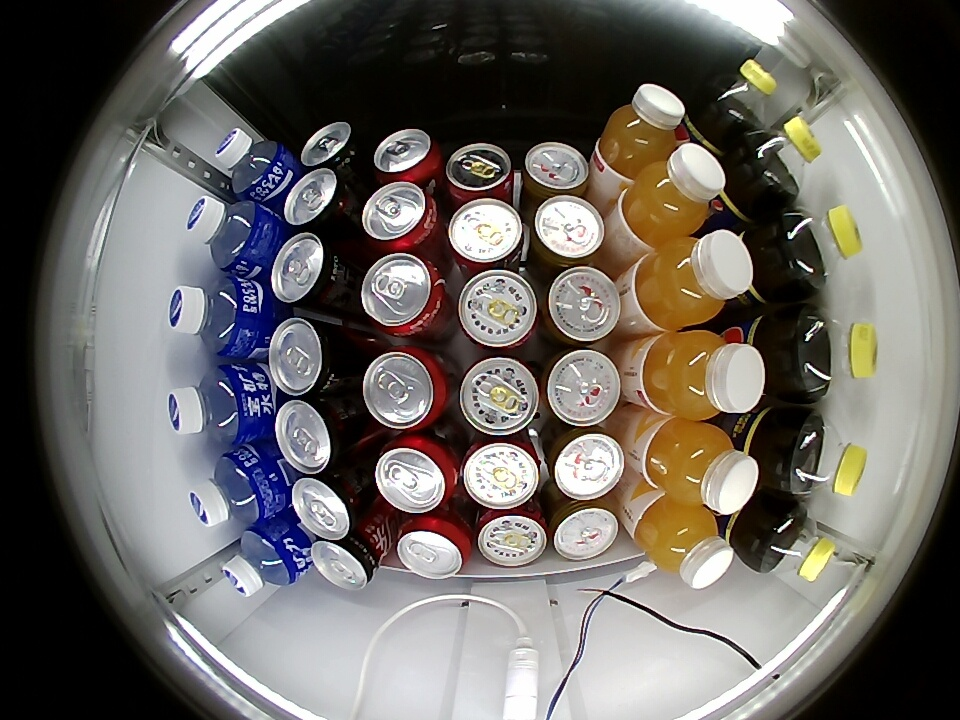baishikele: (795, 305, 878, 398), (781, 413, 868, 498), (780, 205, 863, 292), (752, 502, 838, 580), (743, 116, 823, 196), (703, 59, 778, 139)
baokuangli: (167, 364, 258, 444), (168, 276, 256, 358), (188, 449, 275, 527), (186, 195, 271, 274), (221, 523, 306, 597), (214, 128, 293, 202)
hongniu2: (540, 266, 621, 346), (541, 348, 622, 427), (546, 425, 625, 501), (530, 195, 605, 268), (548, 497, 620, 560), (521, 141, 591, 202)
kele: (362, 346, 449, 431), (360, 253, 447, 337), (374, 434, 458, 514), (361, 182, 437, 250), (395, 516, 472, 580), (373, 128, 441, 183)
lingdukele: (268, 318, 350, 396), (274, 397, 356, 473), (269, 232, 347, 308), (290, 469, 367, 540), (281, 167, 354, 232), (311, 531, 381, 590), (300, 122, 363, 176)
wangzainiunai: (456, 268, 540, 350), (458, 355, 541, 436), (460, 431, 540, 510), (447, 198, 525, 276), (474, 500, 548, 567), (444, 143, 516, 205)
weic: (634, 230, 753, 330), (643, 418, 759, 514), (640, 330, 766, 418), (620, 144, 726, 246), (633, 496, 734, 589), (598, 84, 687, 178)
